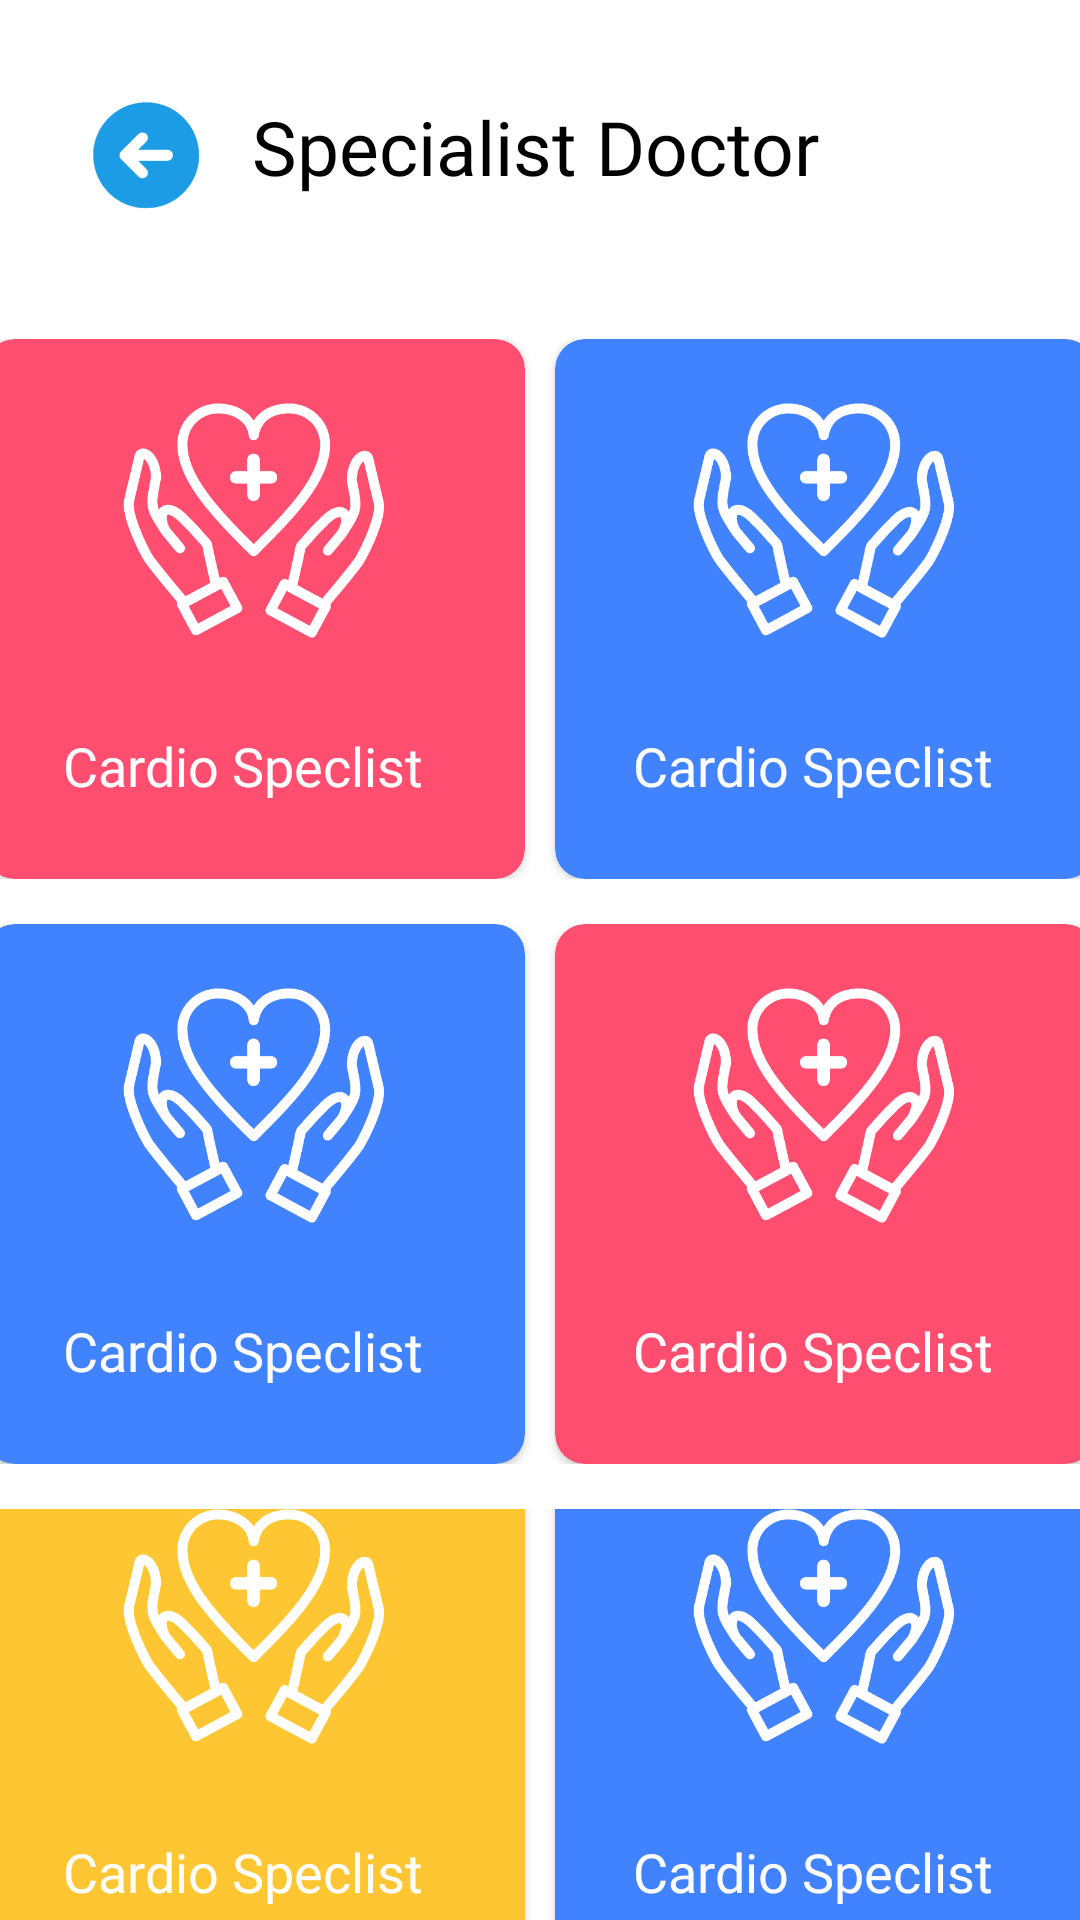

Screen size 1080×1920. Icon name, then its center in pixels as (x,y):
back arrow: (146,155)
